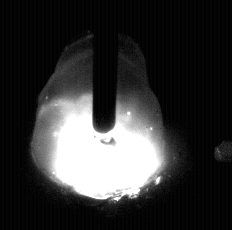arame: (93, 0, 117, 133)
poca: (30, 0, 166, 230)
